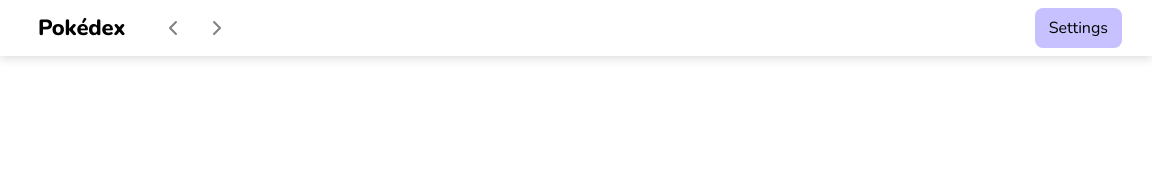
Test: TopNavbar › displays drop down menu following a click on the settings button
Click the button "Settings". click: (1078, 28)
box: [1035,8,1122,48]
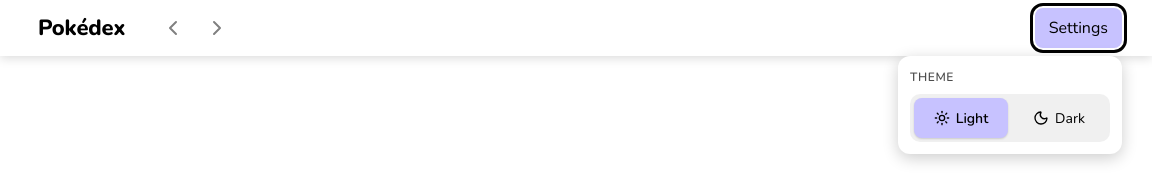
Expected: the element with test id "drop-down" is shown, [898,56,1122,154]
